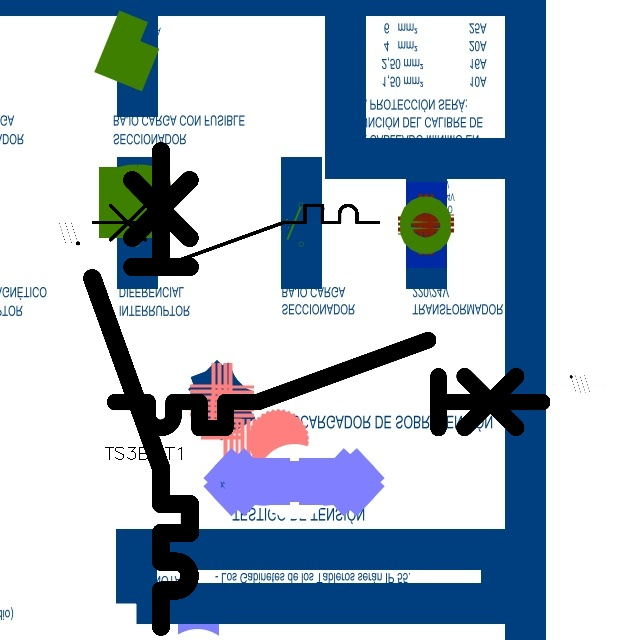interruptor_termomagnetico: (80, 139, 202, 639), (104, 329, 553, 439), (85, 198, 385, 271)
